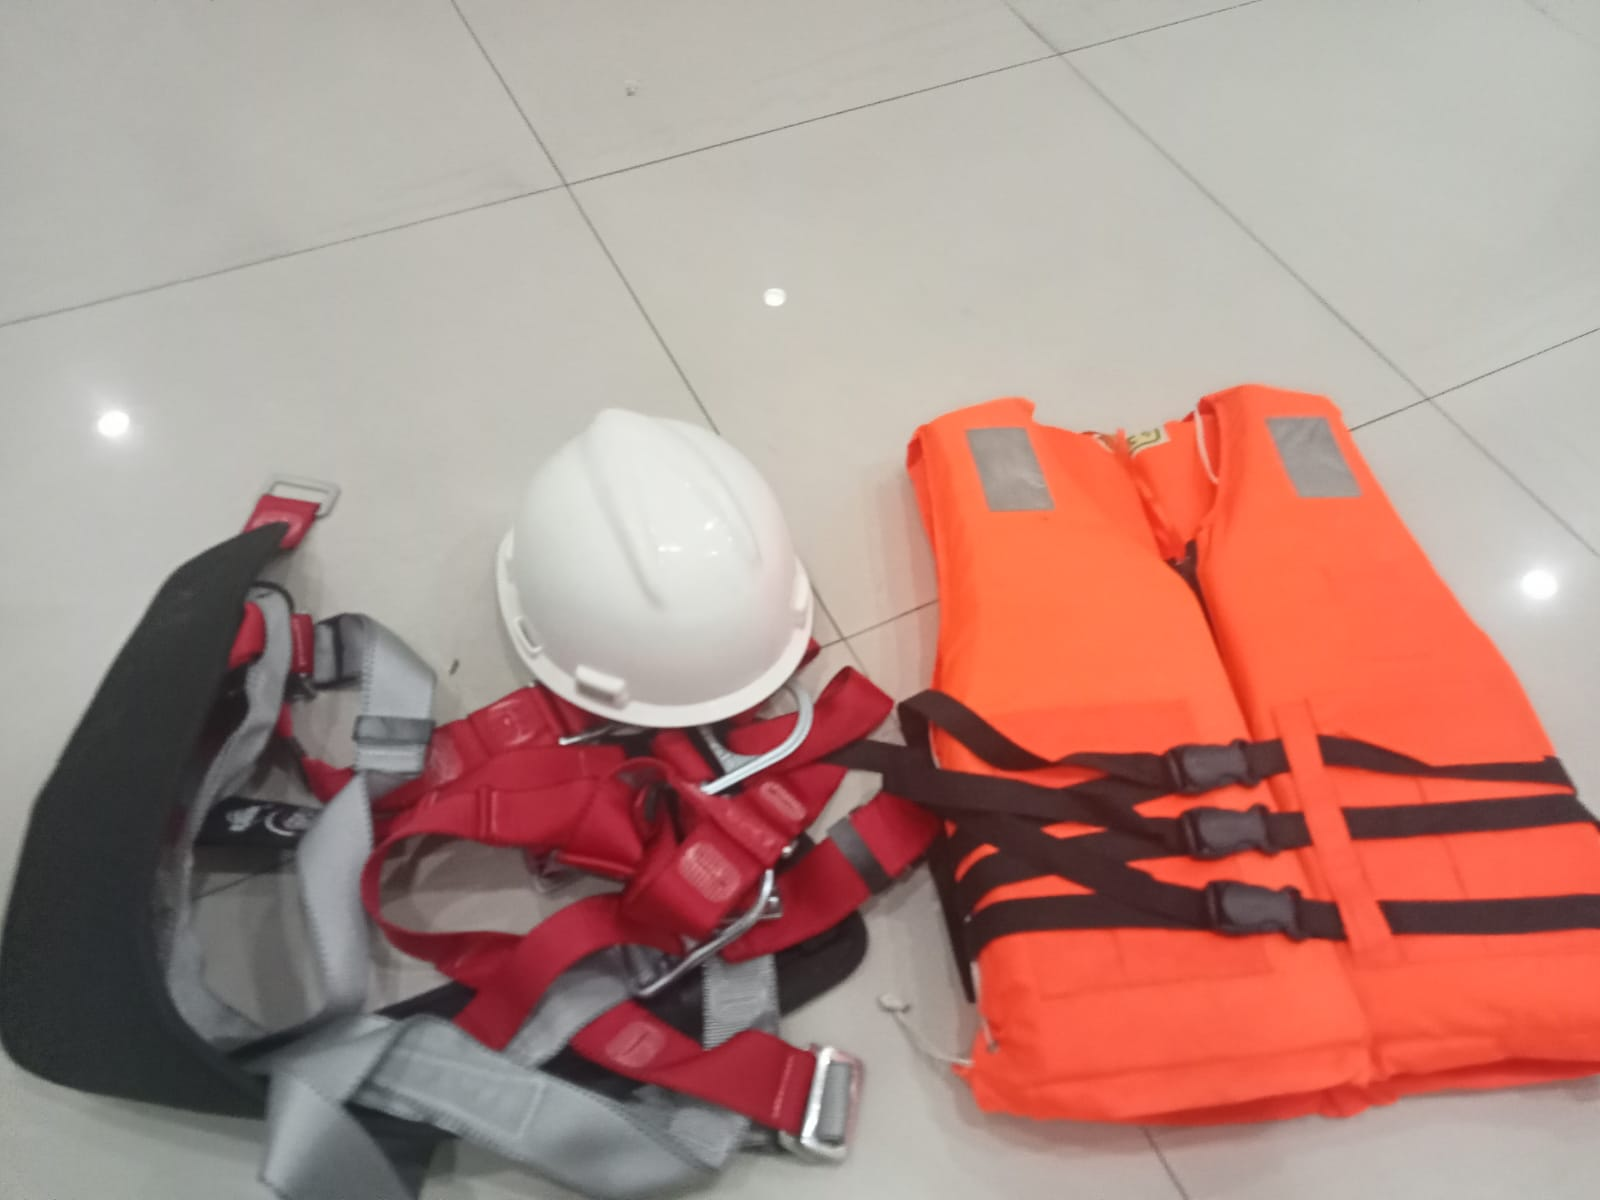HELM: (506, 403, 794, 682)
ROMPI: (936, 420, 1474, 1112)
